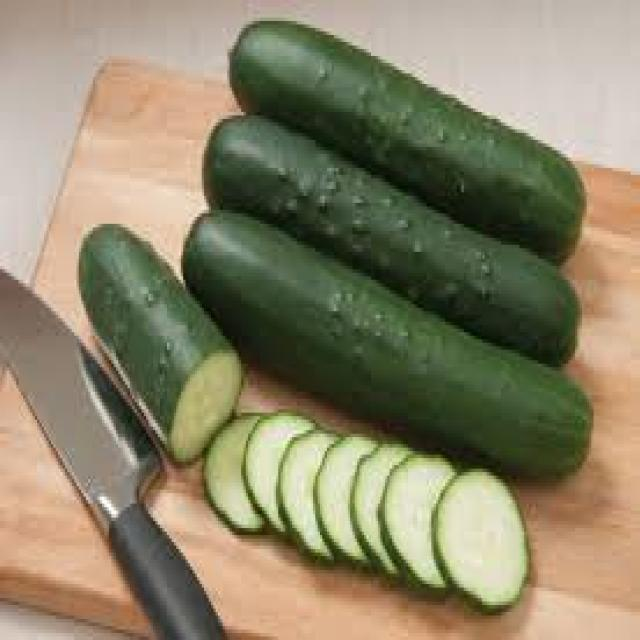cucumber: (183, 16, 596, 485)
